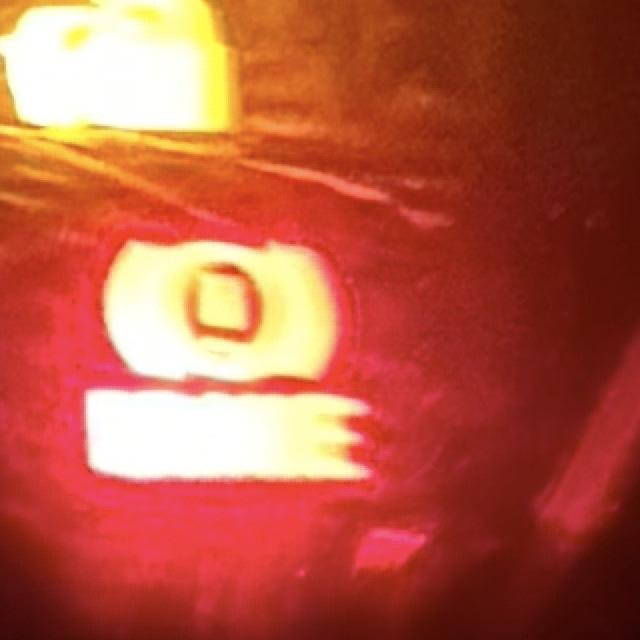Break System Issue: (80, 236, 378, 496)
